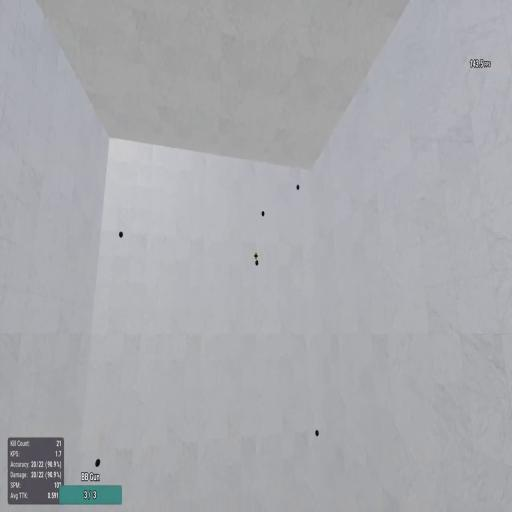Crosshair: (254, 252, 258, 260)
Target: (96, 459, 100, 467), (315, 429, 319, 437), (261, 210, 265, 217), (119, 231, 123, 238), (256, 259, 258, 267), (297, 184, 299, 191)
